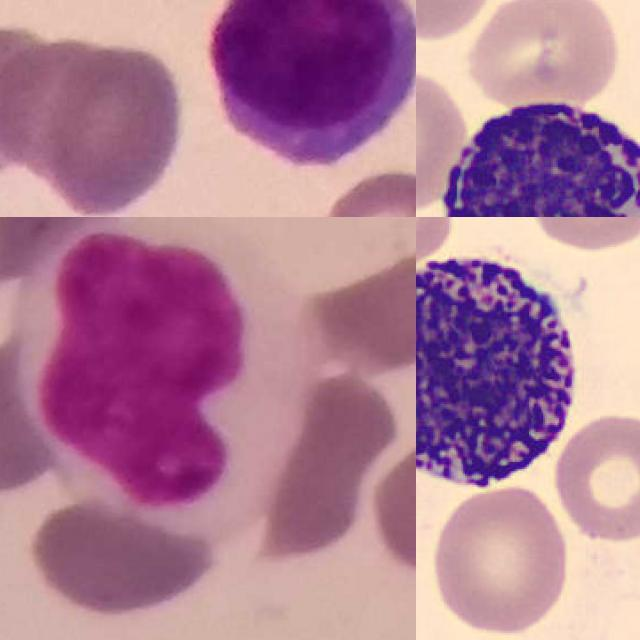Basophil: (416, 234, 589, 497), (426, 86, 640, 217)
Lymphocyte: (209, 0, 416, 168)
Monocyte: (32, 223, 306, 520)
RBC: (424, 478, 575, 640), (464, 0, 622, 107), (548, 409, 640, 545), (416, 61, 470, 216)
